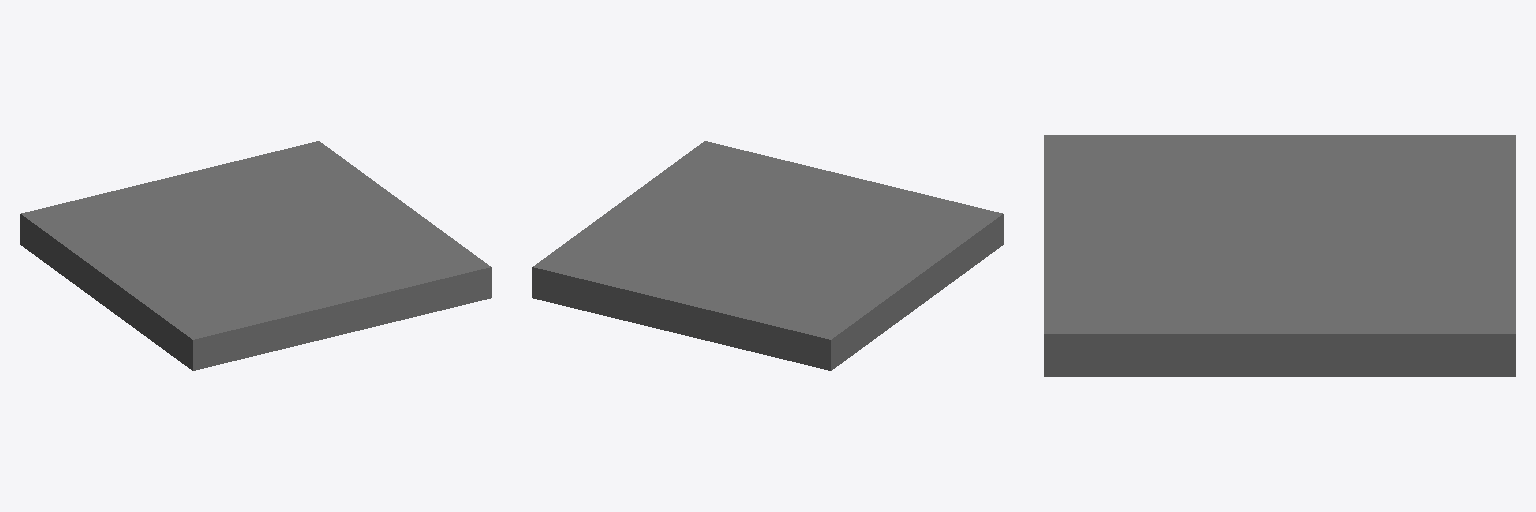
URDF robot description (tag1):
<?xml version="1.0"?>
<robot name="tag1">


  <link name="tag">
    <collision>
<origin rpy="0 0 0" xyz="0 0 0"/>
      <geometry>
        <box size="0.01 0.01 0.001"/>
      </geometry>

    </collision>

	<visual>
     <geometry>
        <box size="0.01 0.01 0.001"/>
      </geometry>

      <origin rpy="0 0 0" xyz="0 0 0"/>
		<material name="Grey">
                   <color rgba="0.5 0.5 0.5 1"/>
             	</material>
</visual>

<inertial>
      <mass value="10"/>
         <inertia ixx="1" ixy="0.0" ixz="0.0" iyy="1" iyz="0.0" izz="1"/>
    </inertial>

</link>

<!--gazebo>

   <plugin name='object_controller' filename='libgazebo_ros_planar_move.so'>
      <commandTopic>cmd_vel</commandTopic>
      <odometryTopic>odom</odometryTopic>
      <odometryFrame>odom</odometryFrame>
      <odometryRate>20.0</odometryRate>
      <robotBaseFrame>tag</robotBaseFrame>
    </plugin>
 </gazebo--> 

</robot>

--- Render facts (derived) ---
3 views of the same robot in one strip: view 1: azimuth 30°, elevation 25°; view 2: azimuth 150°, elevation 25°; view 3: azimuth 270°, elevation 25° (orthographic).
Model tag1 with 1 links and 0 joints (none), rooted at tag, posed every joint at zero.
Links seen in each view (by area): view 1: tag; view 2: tag; view 3: tag.
Boxes of the visible links, x1,y1,x2,y2 form: tag: (20, 141, 491, 370); tag: (532, 141, 1003, 370); tag: (1044, 135, 1515, 376).
Size in the robot's own frame: 0.01 by 0.01 by 0.001 metres.
Geometry: primitives only (box / cylinder / sphere), no mesh files.